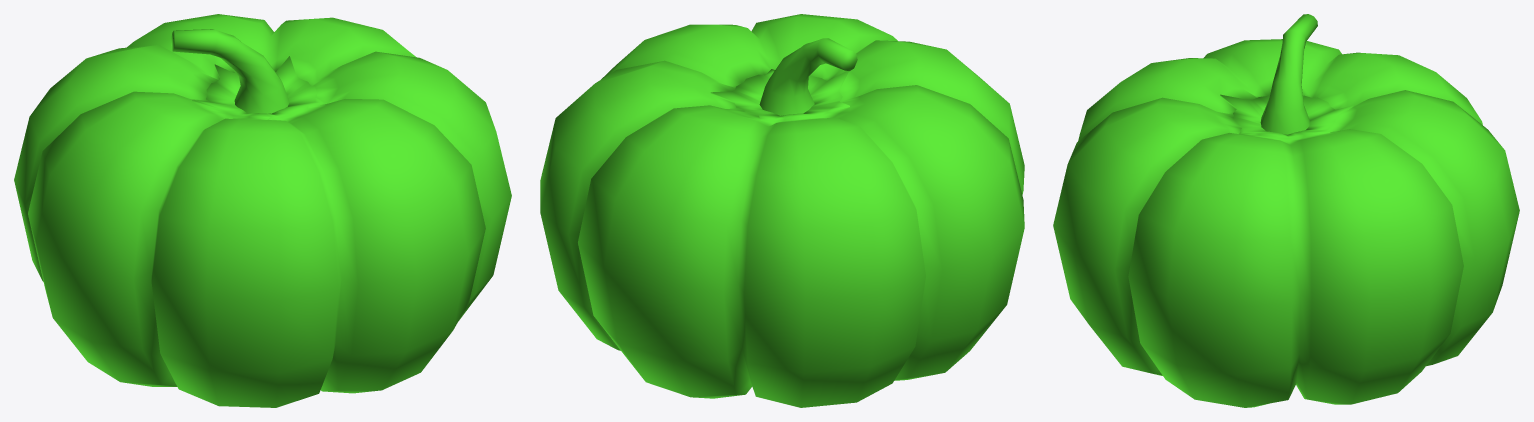
File: ZuccaStriata.fbx
3 renders of one model, left to right at view 1: azimuth 30°, elevation 25°; view 2: azimuth 150°, elevation 25°; view 3: azimuth 270°, elevation 25°, orthographic. The views are drawn at different scales.
Visible parts, largest first — view 1: Zucca.003; view 2: Zucca.003; view 3: Zucca.003.
Boxes of the visible parts, x1,y1,x2,y2 form: Zucca.003: (14, 14, 511, 407); Zucca.003: (540, 14, 1024, 407); Zucca.003: (1053, 14, 1519, 407).
Size of the model in its own units: 61.16 by 44.1 by 61.67.
